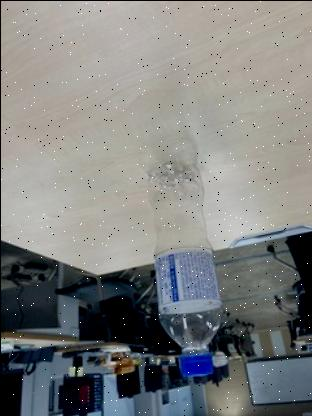Plastic Bottle: (145, 157, 223, 379)
